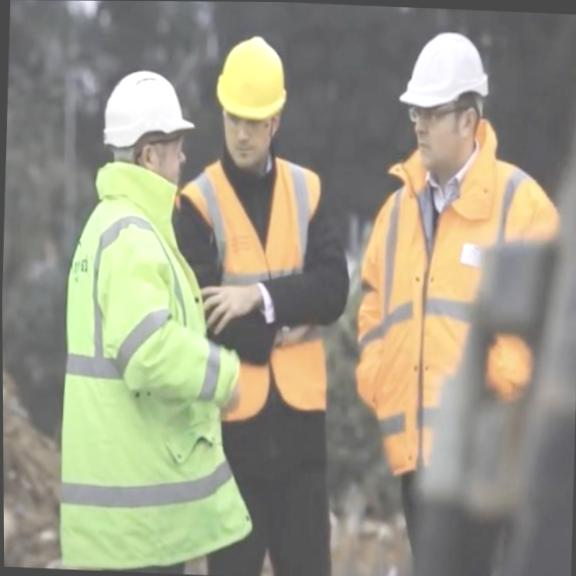safety_vest: (363, 147, 512, 495), (54, 197, 192, 567), (176, 156, 321, 423)
